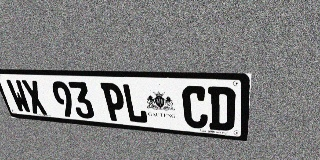3: (68, 82, 95, 119)
9: (50, 81, 77, 118)
C: (182, 85, 208, 129)
D: (208, 86, 236, 132)
L: (121, 83, 148, 124)
P: (100, 83, 128, 122)
W: (5, 79, 33, 114)
X: (21, 80, 48, 115)
